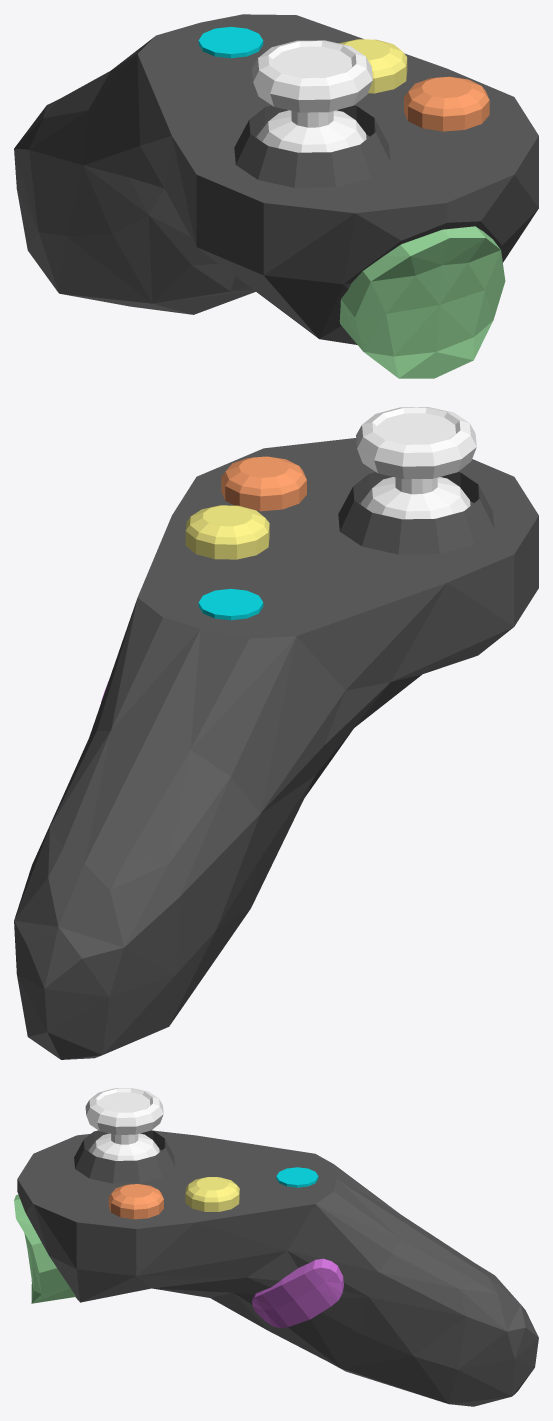
Rendered from QuestControllers.fbx.
The picture shows the model from 3 angles, top to bottom: view 1: azimuth 30°, elevation 25°; view 2: azimuth 150°, elevation 25°; view 3: azimuth 270°, elevation 25°; orthographic projection. The views are drawn at different scales.
Visible parts, largest first — view 1: mesh_285157212, mesh_1433265161, mesh_3687287, mesh_1859892750, mesh_561168591, mesh_1584880500, mesh_400714979; view 2: mesh_285157212, mesh_3687287, mesh_1859892750, mesh_1584880500, mesh_561168591, mesh_400714979; view 3: mesh_285157212, mesh_3687287, mesh_933173774, mesh_1859892750, mesh_1433265161, mesh_561168591, mesh_1584880500, mesh_400714979.
Part boxes in pixels (x1,y1,x2,y2): mesh_285157212: [14, 14, 538, 344]; mesh_1433265161: [339, 226, 505, 378]; mesh_3687287: [252, 40, 372, 152]; mesh_1859892750: [234, 105, 390, 187]; mesh_561168591: [404, 76, 489, 131]; mesh_1584880500: [339, 39, 407, 93]; mesh_400714979: [198, 27, 263, 58]; mesh_285157212: [14, 438, 538, 1059]; mesh_3687287: [356, 407, 476, 519]; mesh_1859892750: [338, 472, 494, 554]; mesh_1584880500: [185, 505, 269, 559]; mesh_561168591: [221, 456, 306, 511]; mesh_400714979: [198, 589, 263, 620]; mesh_285157212: [17, 1130, 538, 1406]; mesh_3687287: [85, 1088, 163, 1160]; mesh_933173774: [252, 1258, 343, 1328]; mesh_1859892750: [74, 1130, 174, 1183]; mesh_1433265161: [14, 1194, 75, 1303]; mesh_561168591: [108, 1184, 163, 1219]; mesh_1584880500: [185, 1177, 239, 1211]; mesh_400714979: [276, 1167, 318, 1187].
Size of the model in its own units: 45.62 by 61.34 by 101.
